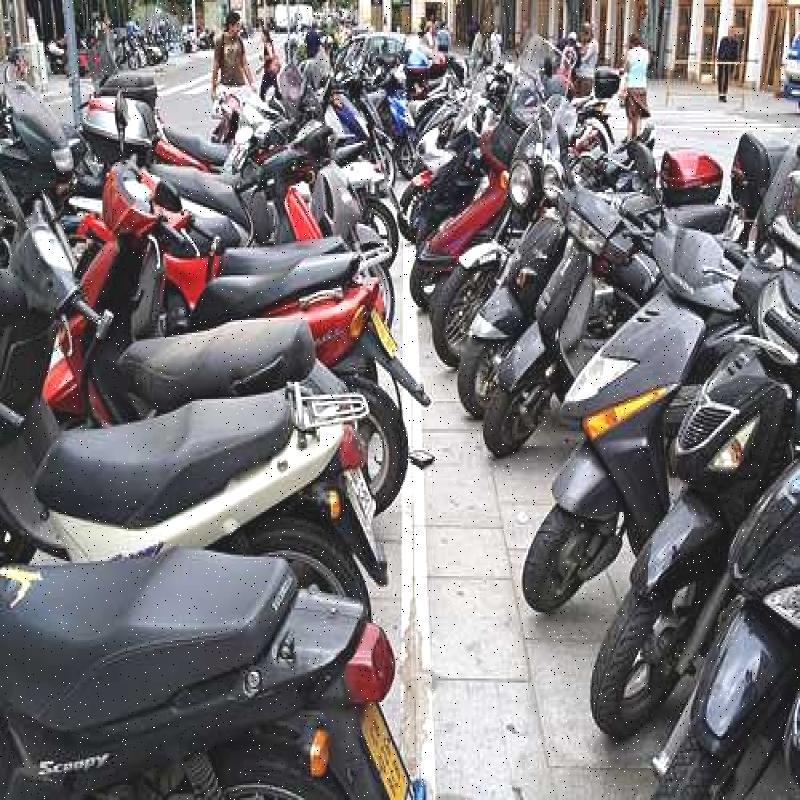bike: (0, 216, 352, 566), (538, 181, 718, 668), (75, 169, 395, 426), (507, 150, 666, 482)
